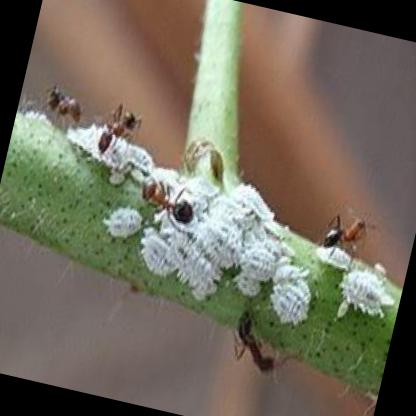mealy bug: (174, 237, 221, 301), (341, 270, 395, 321), (209, 196, 261, 246), (193, 219, 241, 273), (141, 230, 179, 279), (271, 280, 311, 325), (242, 250, 274, 285)
